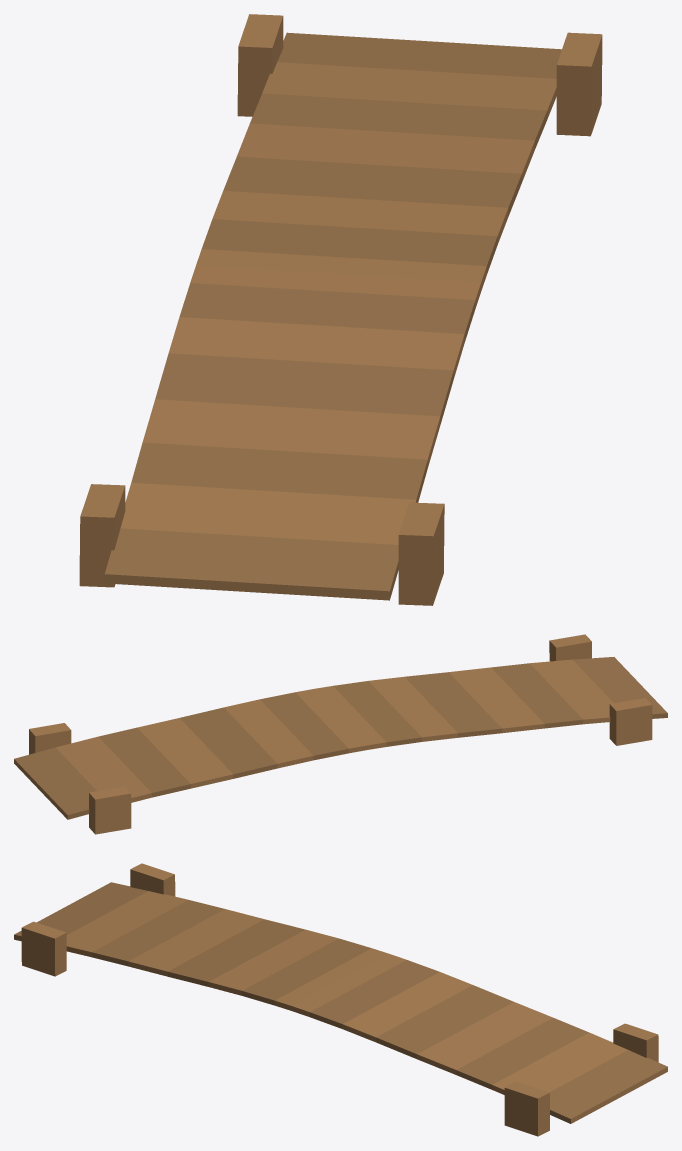
File: WoodenBridge.fbx
The picture shows the model from 3 angles, top to bottom: view 1: azimuth 30°, elevation 25°; view 2: azimuth 150°, elevation 25°; view 3: azimuth 270°, elevation 25°; orthographic projection. The views are drawn at different scales.
Parts seen in each view (by area): view 1: Bridge; view 2: Bridge; view 3: Bridge.
Boxes of the visible parts, x1,y1,x2,y2 form: Bridge: (79,14,602,605); Bridge: (14,634,667,834); Bridge: (14,863,667,1136).
Size of the model in its own units: 298 by 22.82 by 347.
